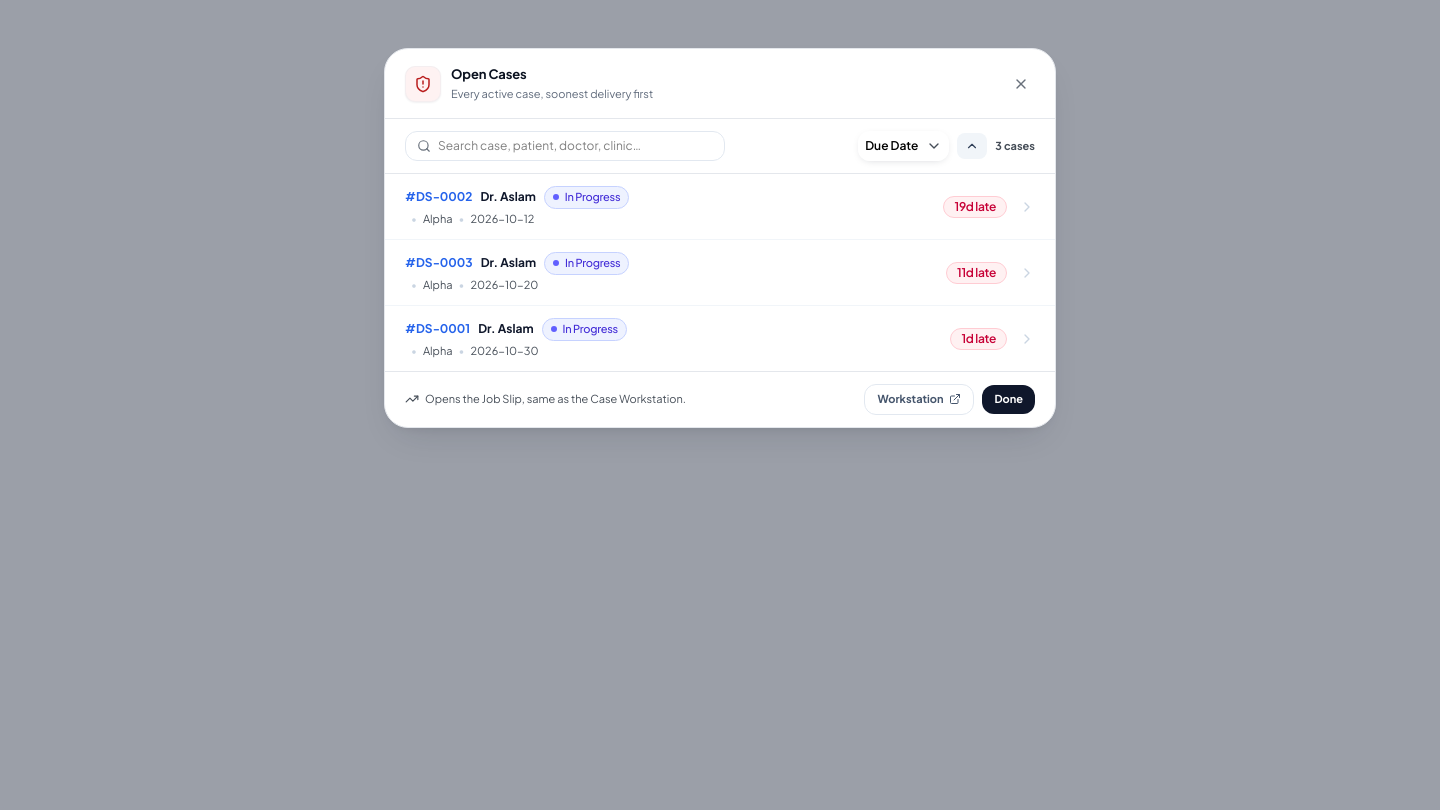
case queue sorting › names the current direction in words, not only as an arrow
Click the button named "ascending" at (972, 146), box [957,133,987,159]
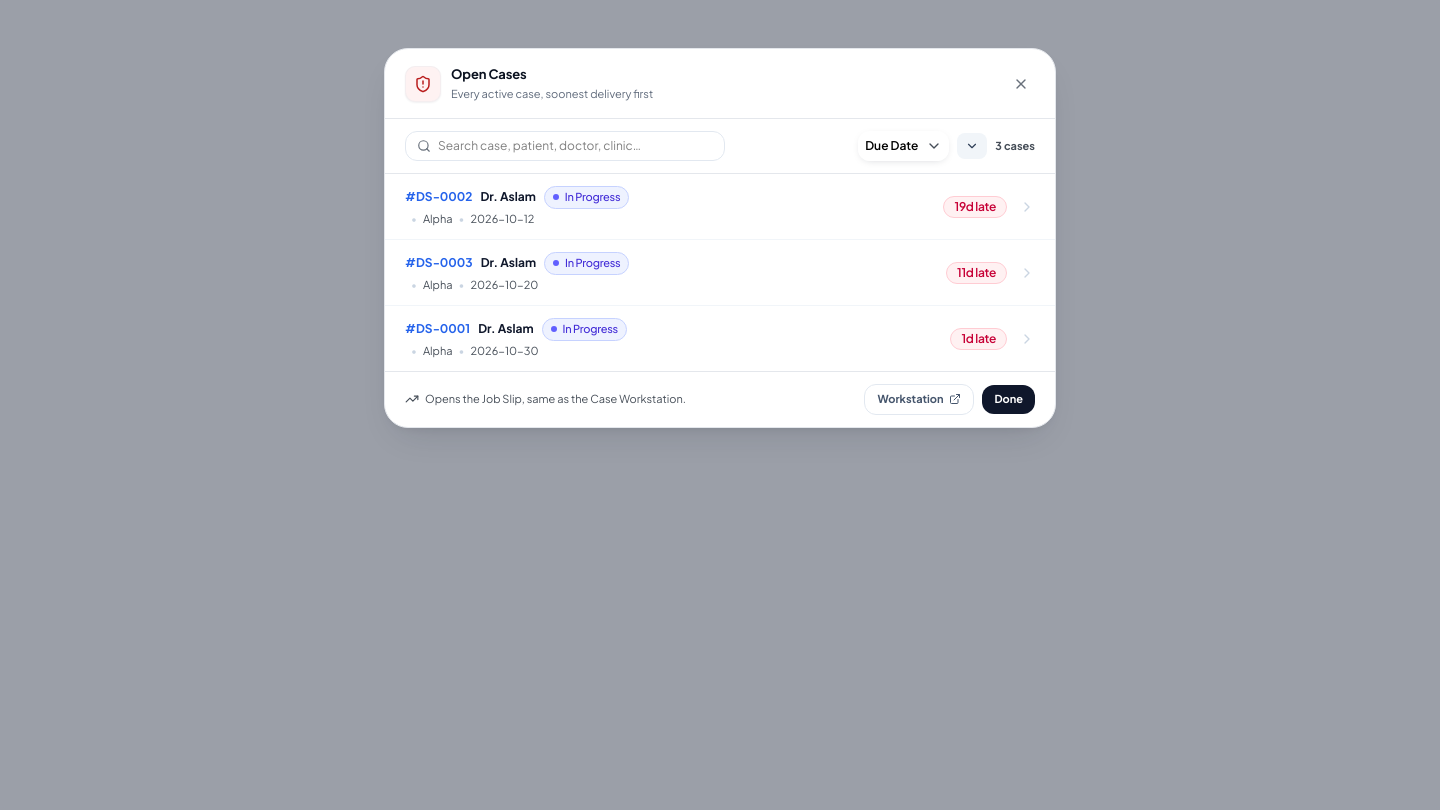
Expected: the button named "descending" is shown, [957,133,987,159]
